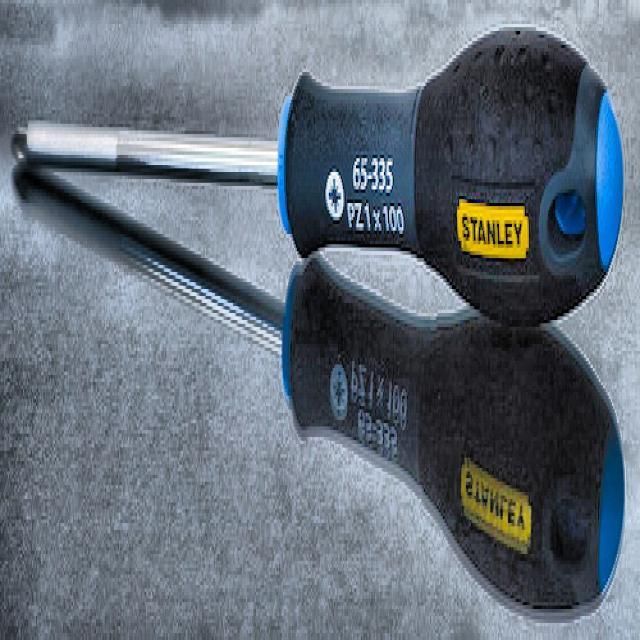screwdriver: (12, 29, 624, 323)
